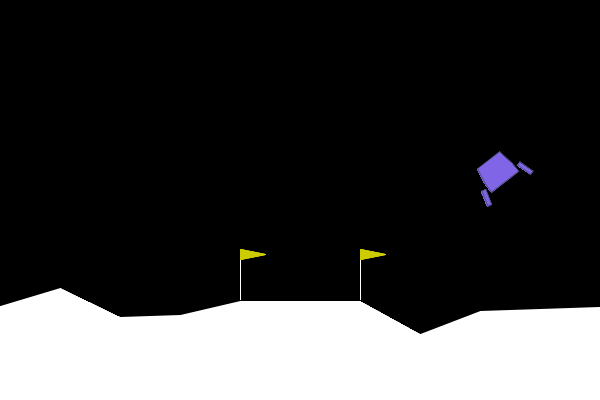lander: (463, 141, 535, 209)
